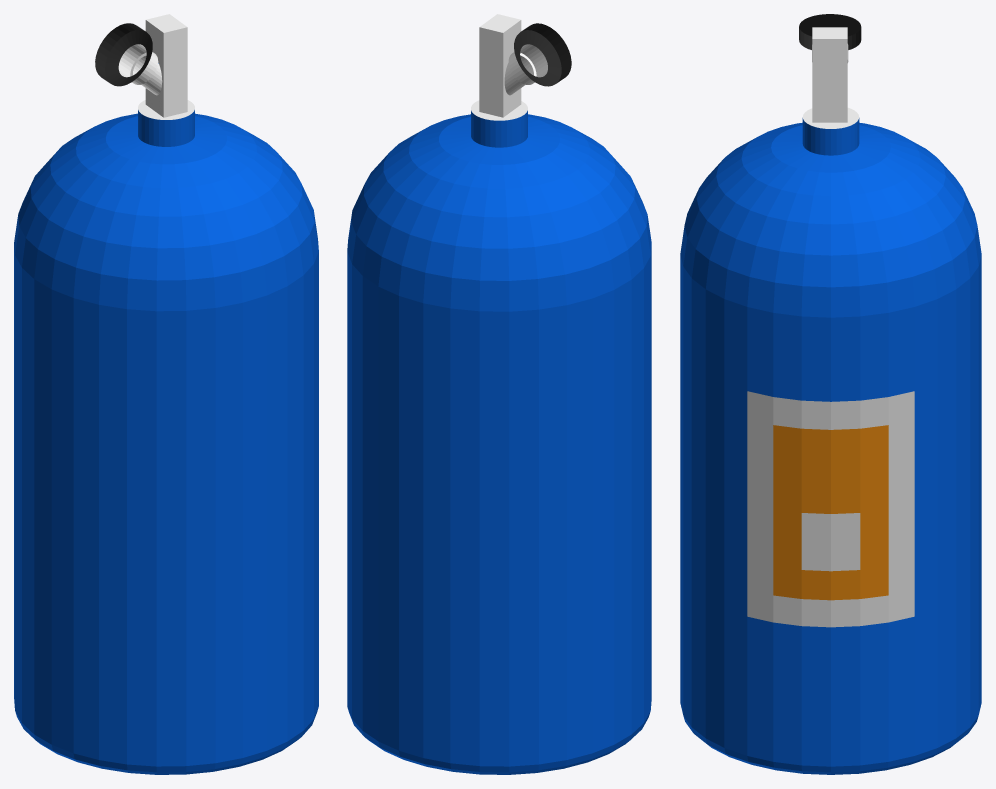
Rendered from NOS.fbx.
3 renders of one model, left to right at view 1: azimuth 30°, elevation 25°; view 2: azimuth 150°, elevation 25°; view 3: azimuth 270°, elevation 25°, orthographic.
Visible parts, largest first — view 1: Kreis; view 2: Kreis; view 3: Kreis.
Part boxes in pixels (x1,y1,x2,y2): Kreis: [14, 14, 318, 774]; Kreis: [347, 14, 651, 774]; Kreis: [680, 14, 981, 774].
Size of the model in its own units: 116 by 292 by 116.
